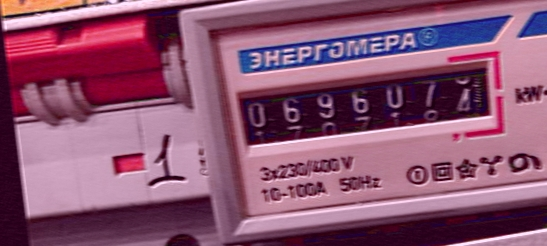0: (384, 81, 406, 114), (246, 102, 267, 131)
4: (454, 88, 473, 118)
6: (349, 88, 372, 119), (281, 96, 303, 126)
7: (420, 79, 440, 111)
9: (316, 93, 336, 123)
screen: (221, 45, 515, 168)
